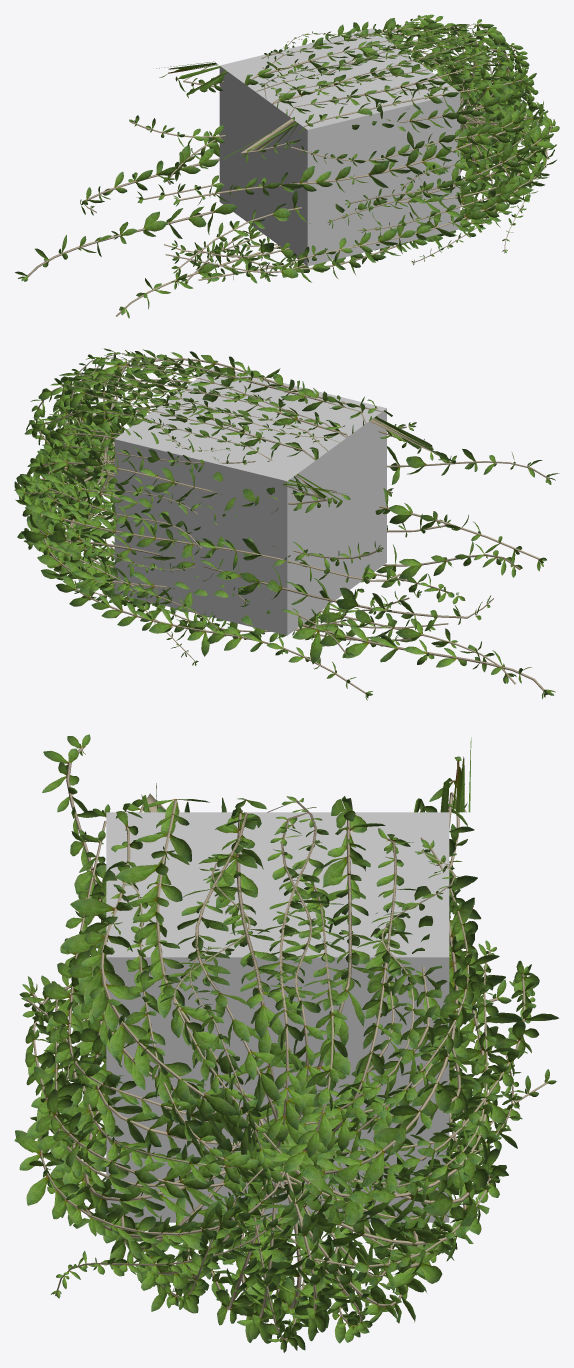
File: stonecrop_shelf_v2.glb
The picture shows the model from 3 angles, top to bottom: view 1: azimuth 30°, elevation 25°; view 2: azimuth 150°, elevation 25°; view 3: azimuth 270°, elevation 25°; orthographic projection. The views are drawn at different scales.
Parts seen in each view (by area): view 1: Herb.003; view 2: Herb.003; view 3: Herb.003.
Boxes of the visible parts, <box> form: Herb.003: <box>15,14,559,318</box>; Herb.003: <box>14,348,559,700</box>; Herb.003: <box>14,734,558,1352</box>.
Size of the model in its own units: 0.2998 by 0.1249 by 0.1492.
3 materials, 1 textured.
